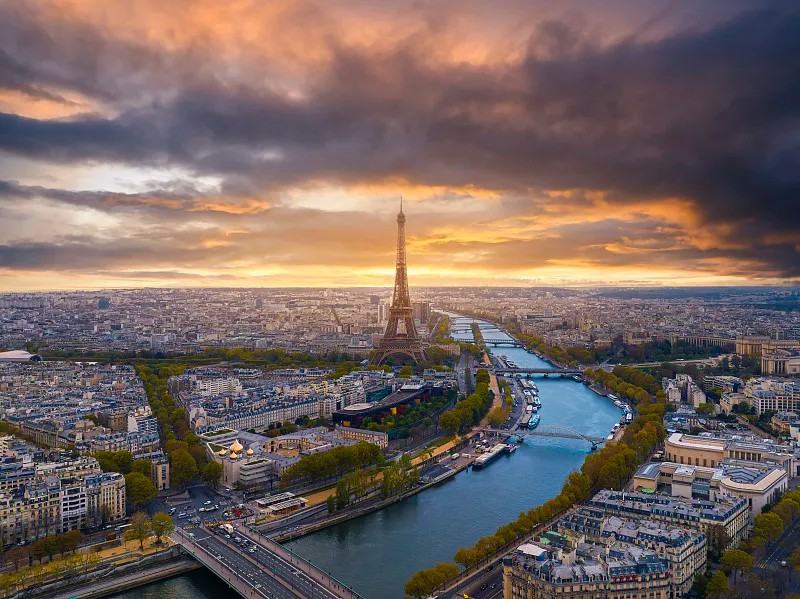Eiffel: (368, 197, 428, 369)
